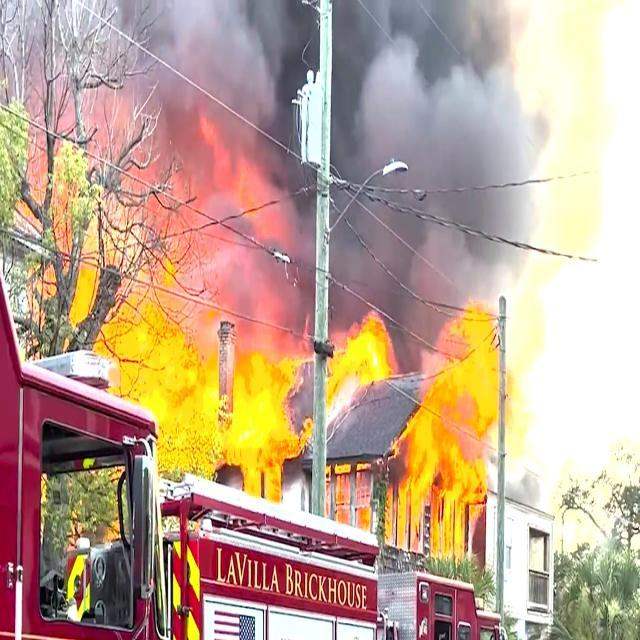Fire: (90, 257, 312, 493), (406, 354, 508, 552), (342, 324, 396, 378)
Smoke: (186, 2, 546, 222)
